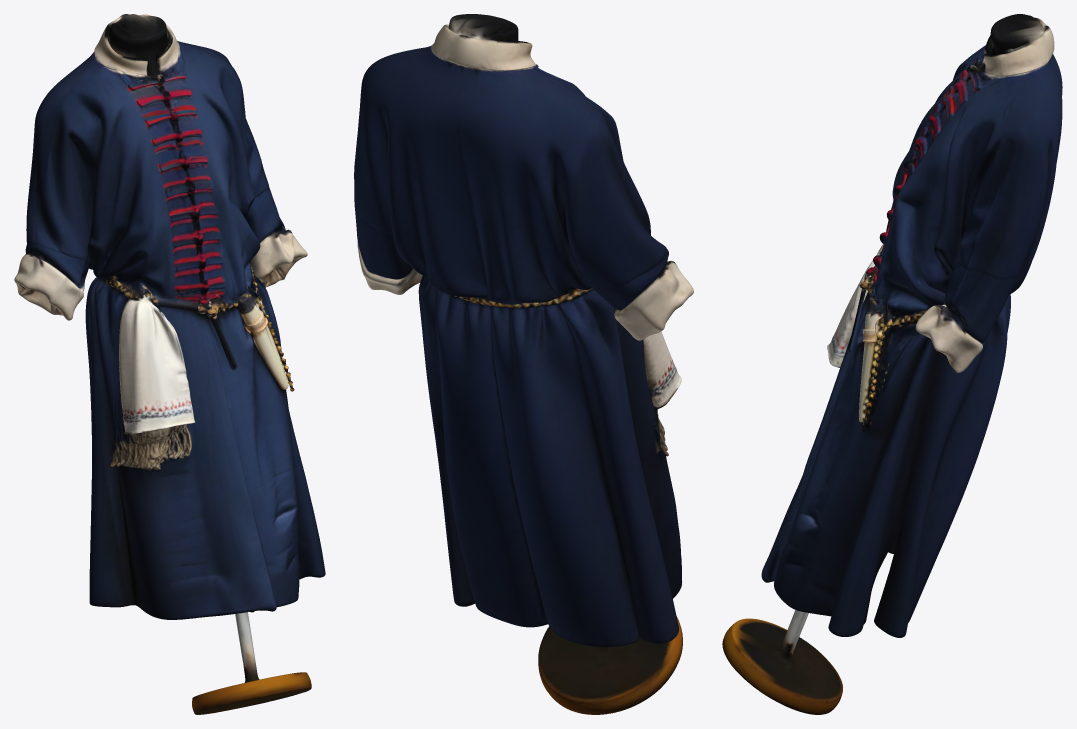
The model's file is 010-muzhskaya-cherkeska-s-gazyryami.glb.
3 renders of one model, left to right at view 1: azimuth 30°, elevation 25°; view 2: azimuth 150°, elevation 25°; view 3: azimuth 270°, elevation 25°, orthographic. The views are drawn at different scales.
Visible parts, largest first — view 1: node_0; view 2: node_0; view 3: node_0.
Part boxes in pixels (x1,y1,x2,y2): node_0: (14,14,325,714); node_0: (354,14,693,714); node_0: (722,14,1062,714).
Bounding box in the file's own units: 0.5136 × 1.12 × 0.5077.
1 material, 1 textured.
